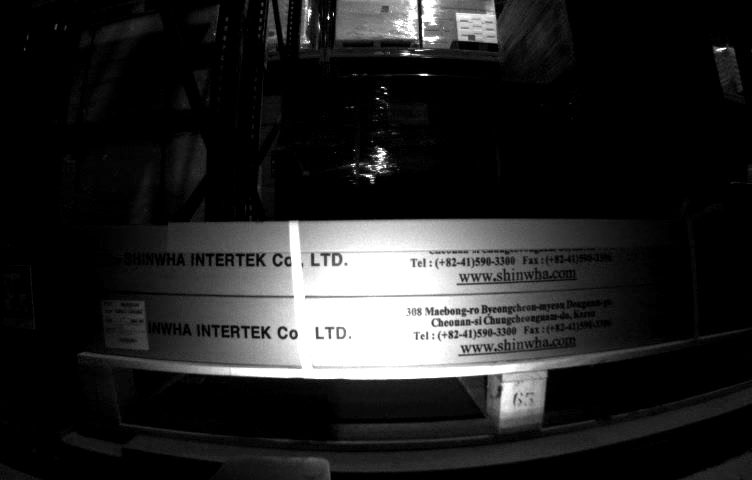True Barcode: (101, 299, 151, 353)
